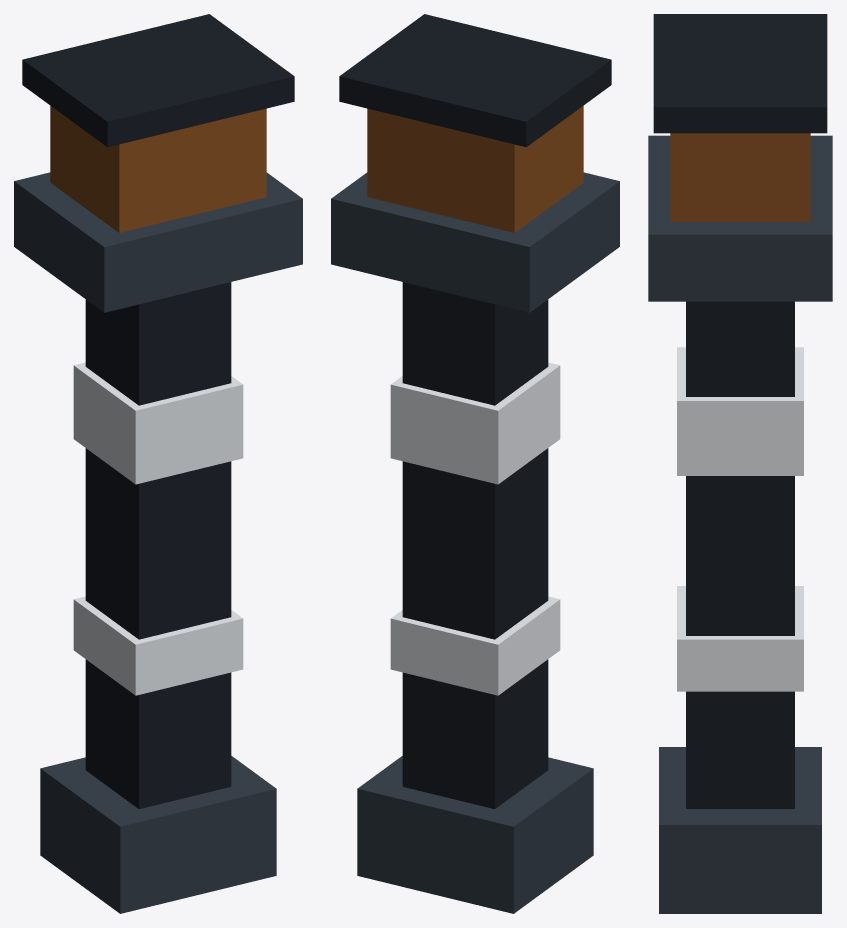
Rendered from RouteBarricadePost.obj.
The picture shows the model from 3 angles, left to right: view 1: azimuth 30°, elevation 25°; view 2: azimuth 150°, elevation 25°; view 3: azimuth 270°, elevation 25°; orthographic projection. The views are drawn at different scales.
Visible parts, largest first — view 1: RouteBarricadePost; view 2: RouteBarricadePost; view 3: RouteBarricadePost.
Boxes of the visible parts, <box> form: RouteBarricadePost: <box>14,14,302,913</box>; RouteBarricadePost: <box>331,14,619,913</box>; RouteBarricadePost: <box>648,14,832,913</box>.
Size of the model in its own units: 1.55 by 5.95 by 1.22.
1 material, 1 textured.
